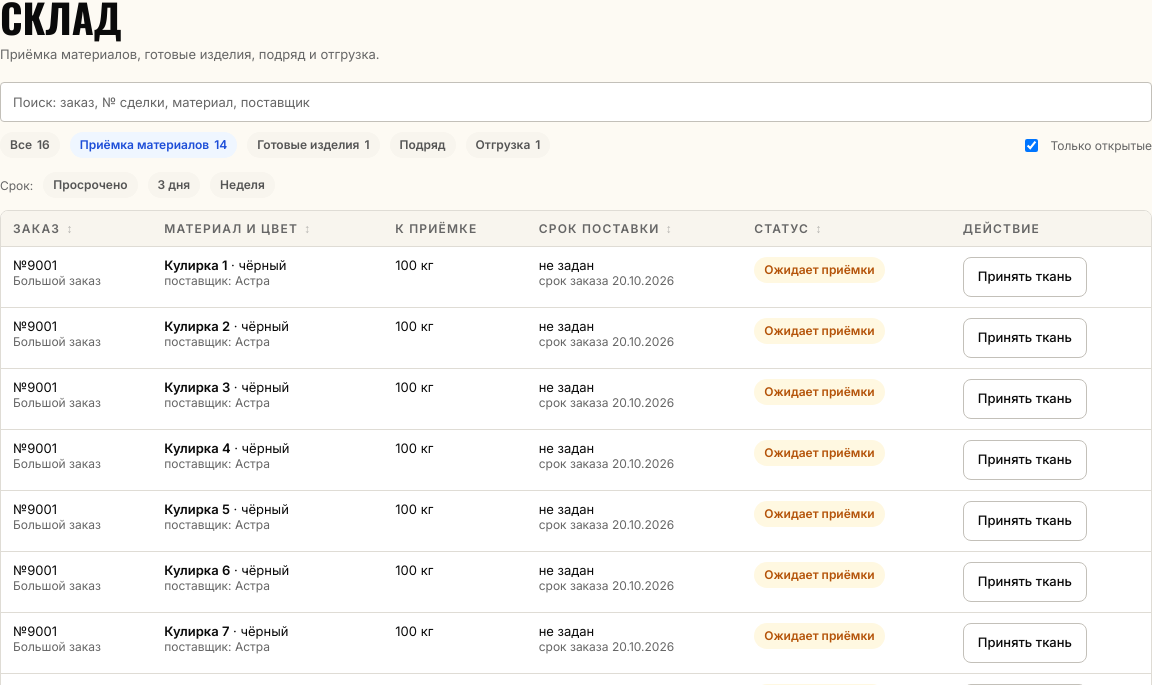
Склад — вкладки, поиск, адрес › «Тест новый» на последней странице находится поиском без перебора
Expected: the text "Тест новый" is not shown
Type "Тест новый" into the search field named "Поиск задач склада".
click(576, 102); type("Тест новый")  # box 0,82 -> 1151,122
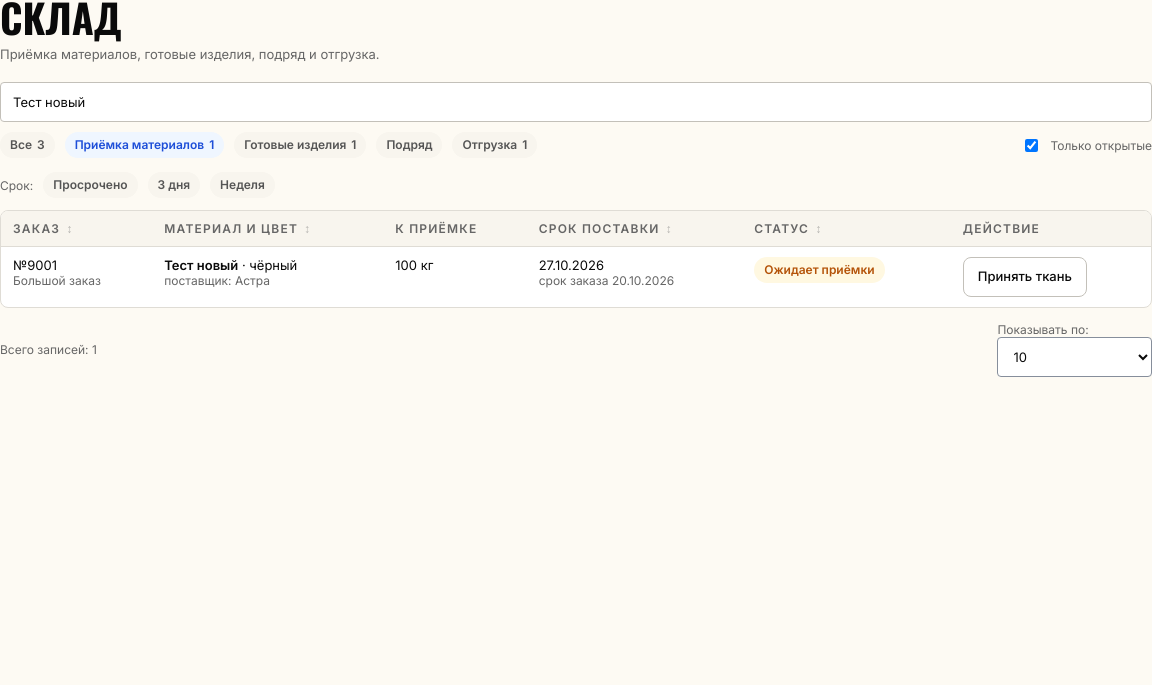
Expected: the text "Тест новый" is shown, 164,257 -> 238,273
